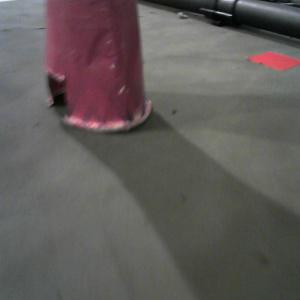middle: (43, 1, 153, 131)
